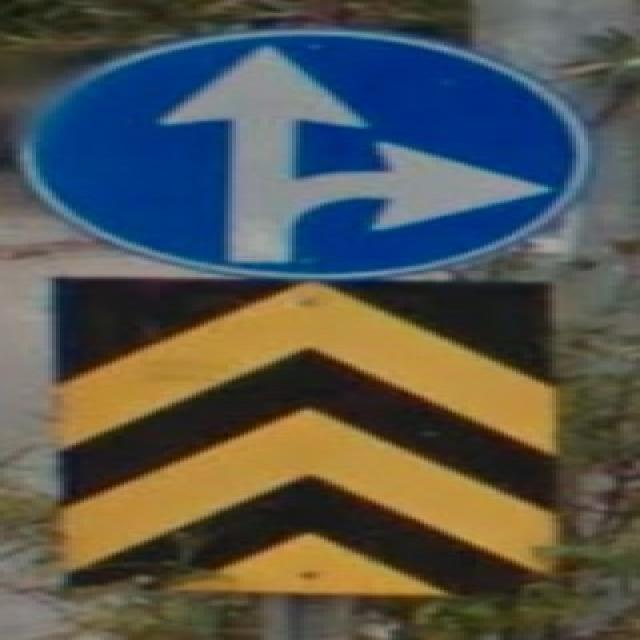Straight or Right: (43, 36, 595, 281)
